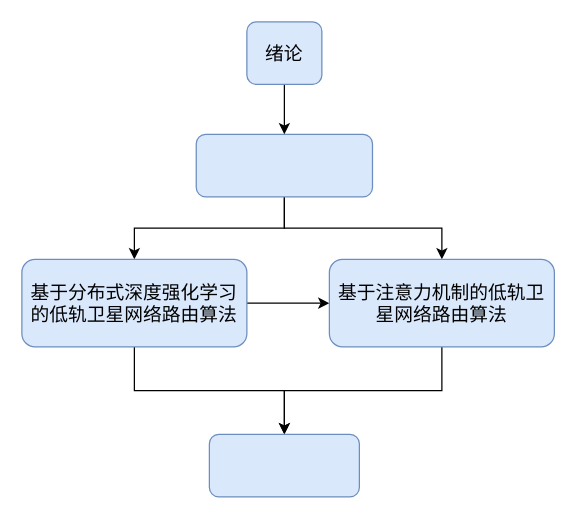
The diagram is 576 pixels wide and 519 high, and some of its shapes have lost their labels. The shapes that lost their labels are listed below. From the top down, each one's box as (x1, y1, x2, y2) in pixels, then its label:
(195, 133, 372, 197): 相关理论与方法
(208, 433, 359, 497): 总结与展望
